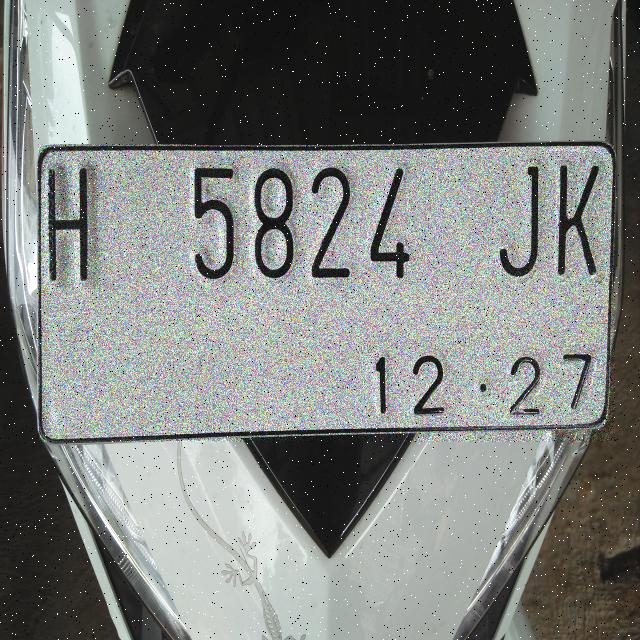plate: (39, 145, 614, 441)
